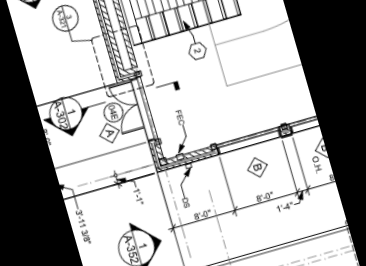double door: (106, 80, 148, 138)
wall: (87, 0, 128, 80), (101, 0, 140, 71), (158, 141, 221, 168), (150, 135, 172, 173), (118, 62, 146, 79)
